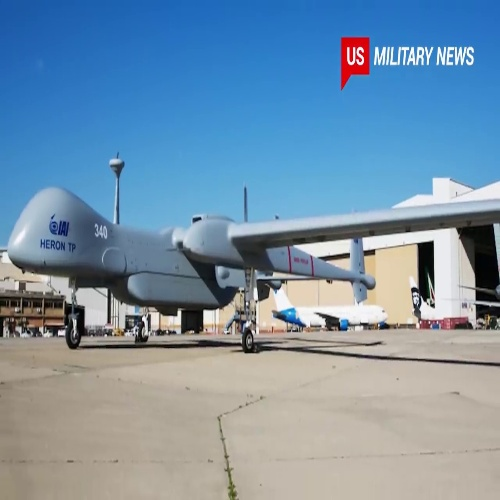uav445: (4, 151, 500, 353)
